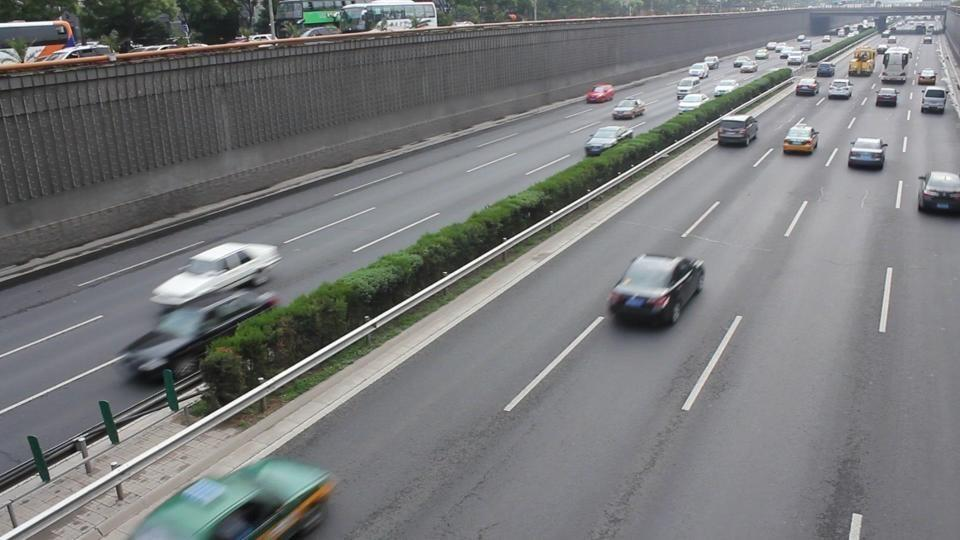car: (129, 454, 337, 539), (114, 285, 280, 385), (150, 242, 276, 311), (606, 252, 706, 328), (34, 43, 119, 65), (918, 171, 960, 214), (583, 126, 633, 157), (717, 112, 760, 147), (847, 137, 887, 171), (782, 123, 819, 155), (611, 96, 647, 117), (921, 88, 947, 115), (585, 82, 614, 104), (826, 78, 852, 100), (795, 75, 818, 97), (875, 87, 898, 107), (917, 67, 936, 86), (0, 49, 20, 64)
